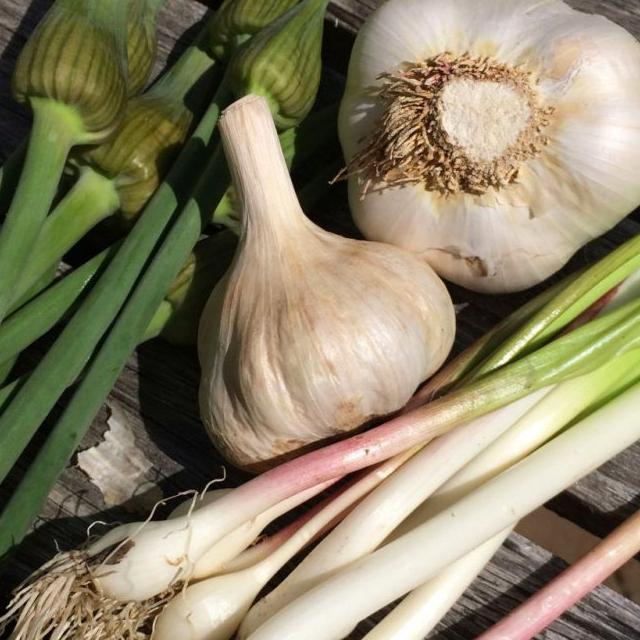garlic: (193, 96, 461, 466), (338, 0, 640, 283)
green_onion: (0, 219, 640, 640)
